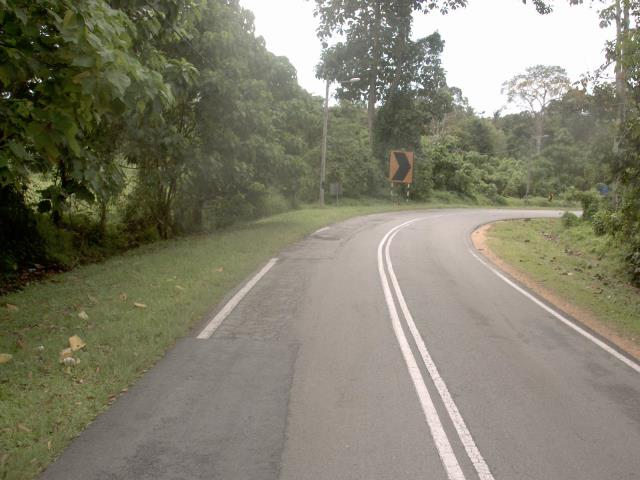traffic_sign: (382, 143, 419, 188)
